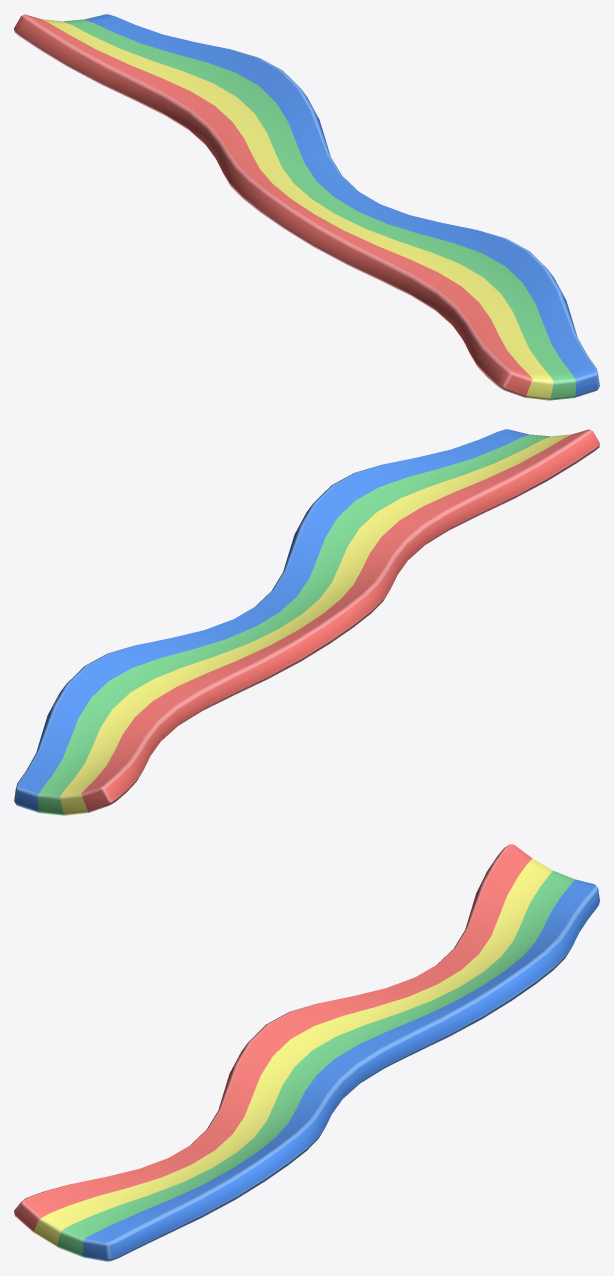
Rendered from marmalade_004.glb.
The picture shows the model from 3 angles, top to bottom: view 1: azimuth 30°, elevation 25°; view 2: azimuth 150°, elevation 25°; view 3: azimuth 330°, elevation 25°; orthographic projection.
Parts seen in each view (by area): view 1: marmalade_004; view 2: marmalade_004; view 3: marmalade_004.
Boxes of the visible parts, box(x1,y1,x2,y2) form: marmalade_004: box(14, 14, 599, 400); marmalade_004: box(14, 429, 599, 815); marmalade_004: box(14, 844, 599, 1261).
Size of the model in its own units: 4.03 by 1.05 by 22.16.
Materials: 1 (1 with a texture image).
